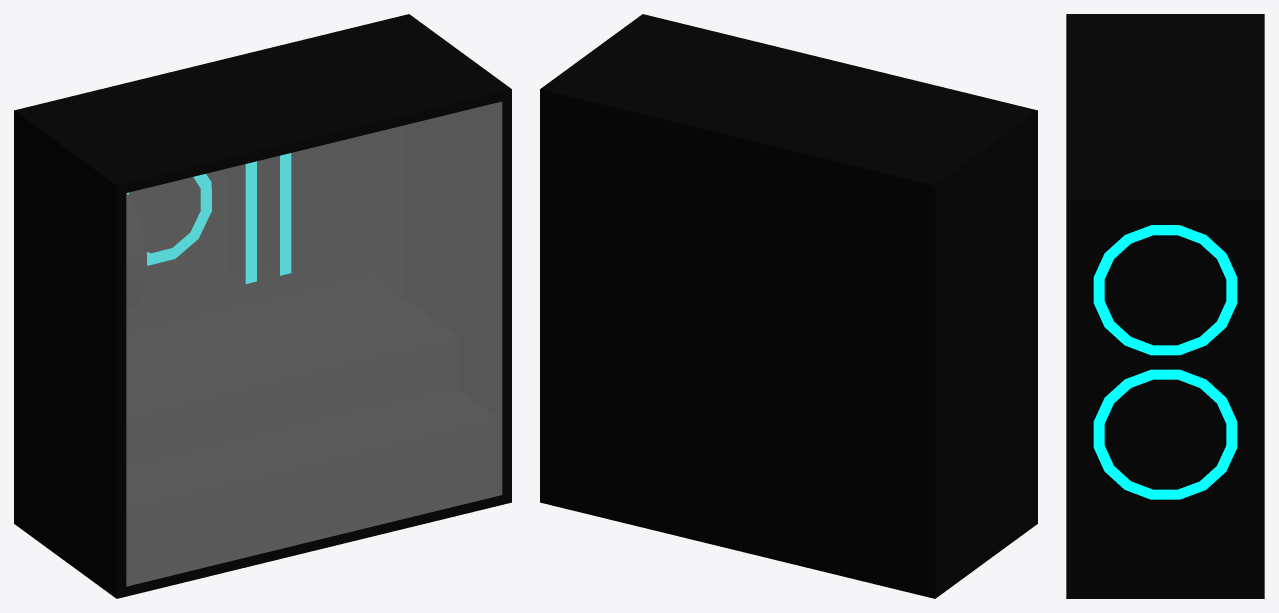
The picture shows the model from 3 angles, left to right: view 1: azimuth 30°, elevation 25°; view 2: azimuth 150°, elevation 25°; view 3: azimuth 270°, elevation 25°; orthographic projection. The views are drawn at different scales.
Visible parts, largest first — view 1: pc; view 2: pc; view 3: pc.
Boxes of the visible parts, x1=… form: pc: x1=14, y1=14, x2=511, y2=598; pc: x1=540, y1=14, x2=1037, y2=598; pc: x1=1066, y1=14, x2=1264, y2=598.
Size of the model in its own units: 40 by 40 by 18.
